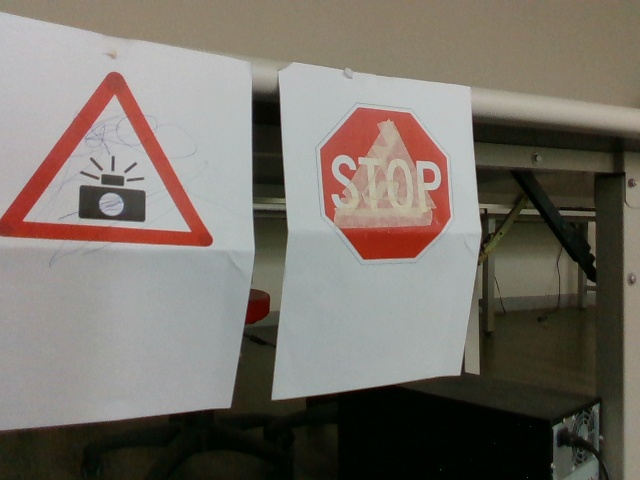camera: (2, 73, 215, 247)
stop: (319, 105, 454, 267)
